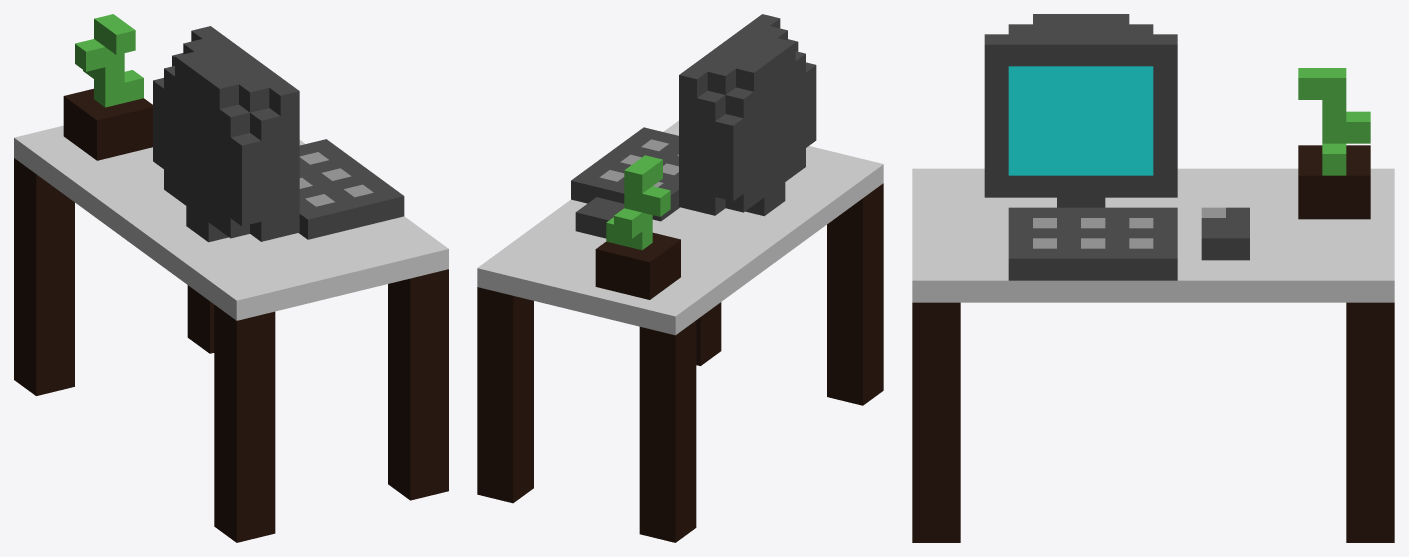
File: table_comp.obj
3 views of the same model, side by side, from view 1: azimuth 30°, elevation 25°; view 2: azimuth 150°, elevation 25°; view 3: azimuth 270°, elevation 25° (orthographic). The views are drawn at different scales.
Bounding box in the file's own units: 1.1 × 2 × 2.
Materials: 1 (1 with a texture image).
